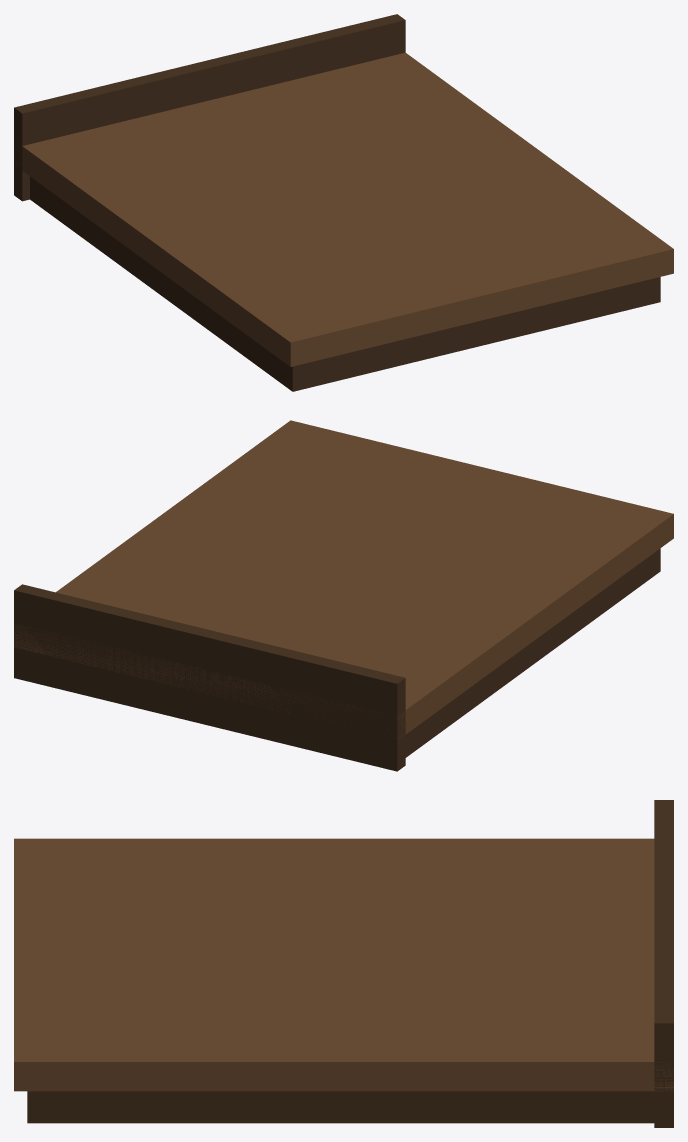
The model's file is bed_platform_wood.glb.
The picture shows the model from 3 angles, top to bottom: view 1: azimuth 30°, elevation 25°; view 2: azimuth 150°, elevation 25°; view 3: azimuth 270°, elevation 25°; orthographic projection. The views are drawn at different scales.
Visible parts, largest first — view 1: furniture; view 2: furniture; view 3: furniture.
Boxes of the visible parts, left/top/right/bottom form: furniture: left=14, top=14, right=673, bottom=391; furniture: left=14, top=420, right=673, bottom=771; furniture: left=14, top=800, right=673, bottom=1127.
Size of the model in its own units: 1.6 by 0.35 by 2.
